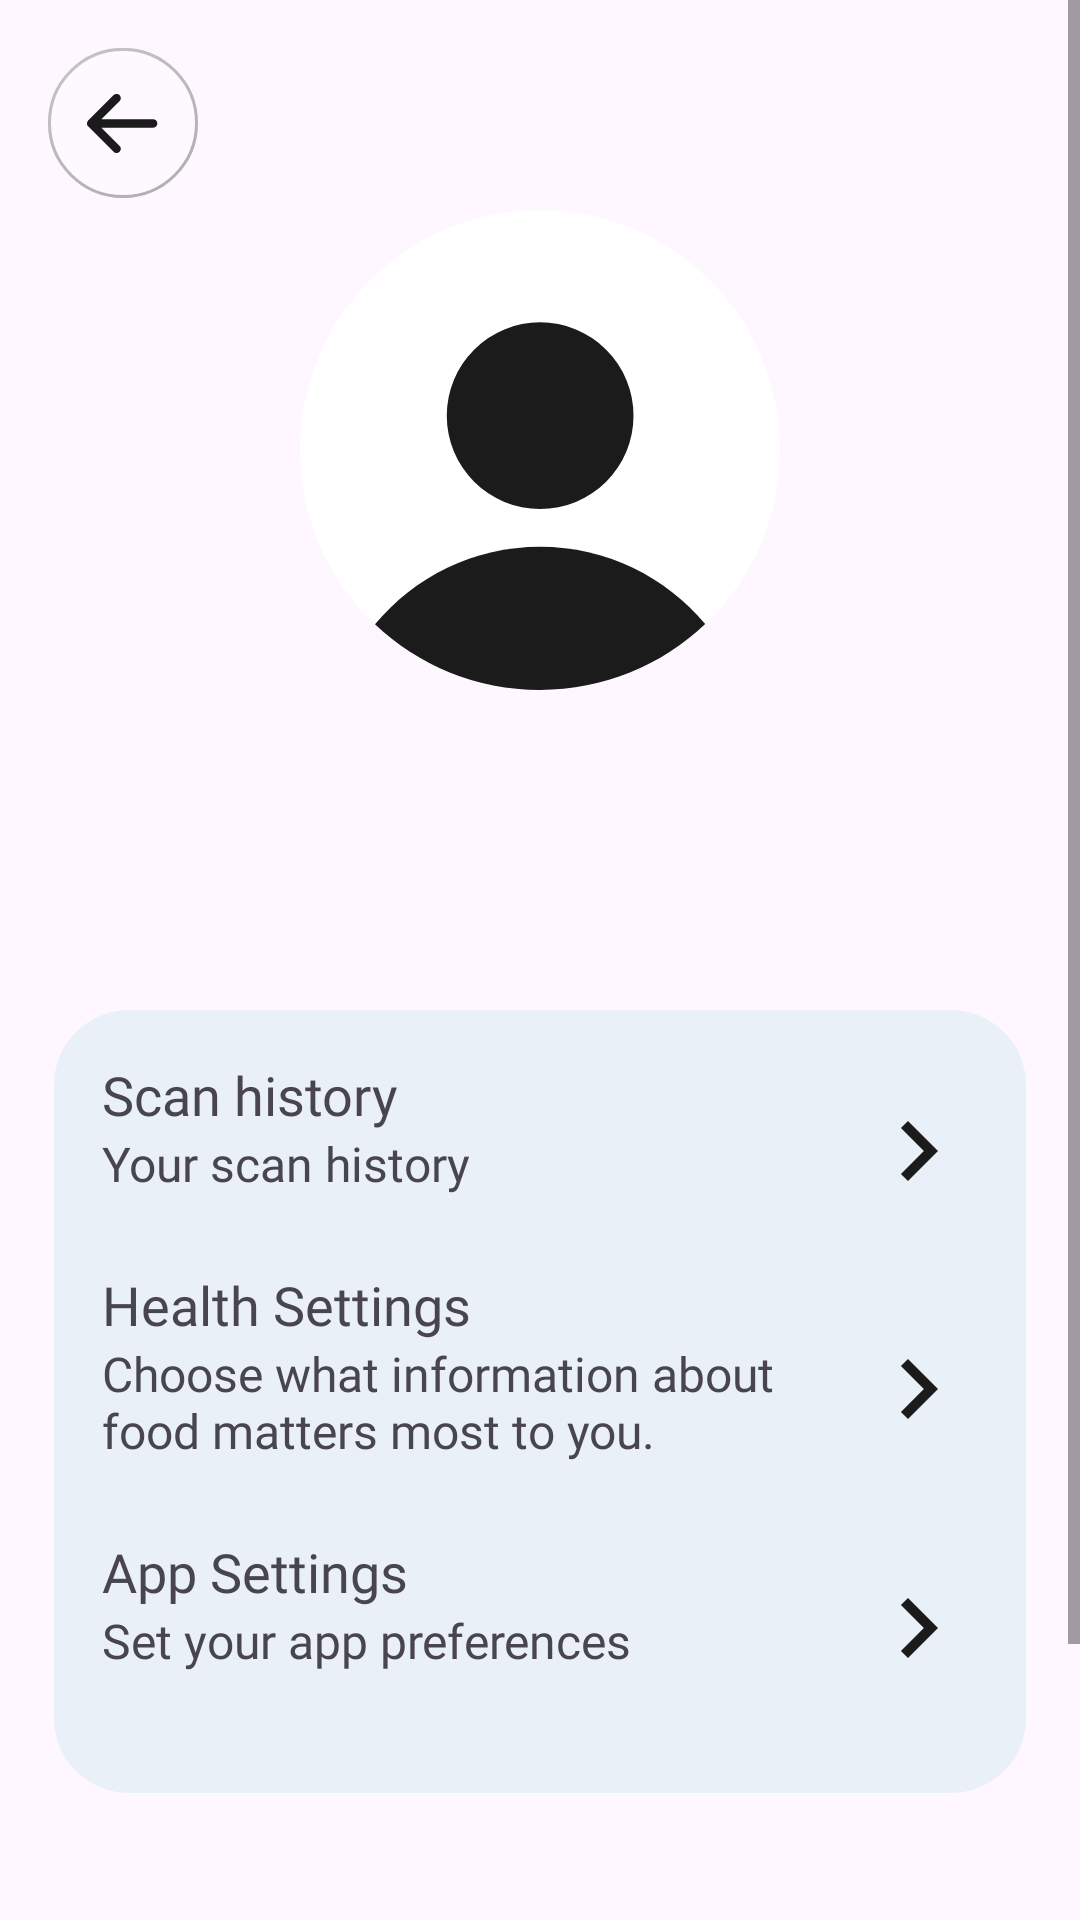

Locate icon controls on the screen. Image size 1080×1920, boxes as (x1, y1, x2, y2).
arrow right: (901, 1121, 938, 1181), (901, 1359, 938, 1419), (901, 1598, 938, 1658)
back: (48, 48, 198, 198)
